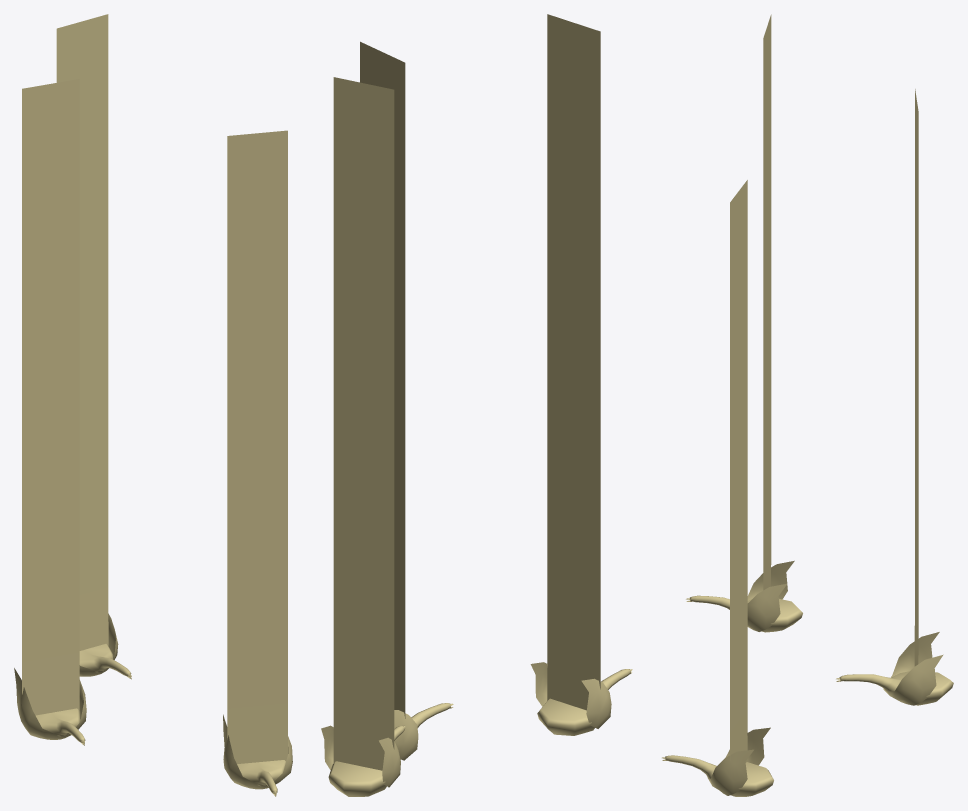
File: pajaritos.fbx
3 renders of one model, left to right at view 1: azimuth 30°, elevation 25°; view 2: azimuth 150°, elevation 25°; view 3: azimuth 270°, elevation 25°, orthographic. The views are drawn at different scales.
Parts seen in each view (by area): view 1: pajaros; view 2: pajaros; view 3: pajaros.
Boxes of the visible parts, x1,y1,x2,y2 form: pajaros: (14, 14, 292, 796); pajaros: (321, 14, 632, 796); pajaros: (662, 14, 953, 796).
Size of the model in its own units: 1.11 by 1.2 by 3.09.
